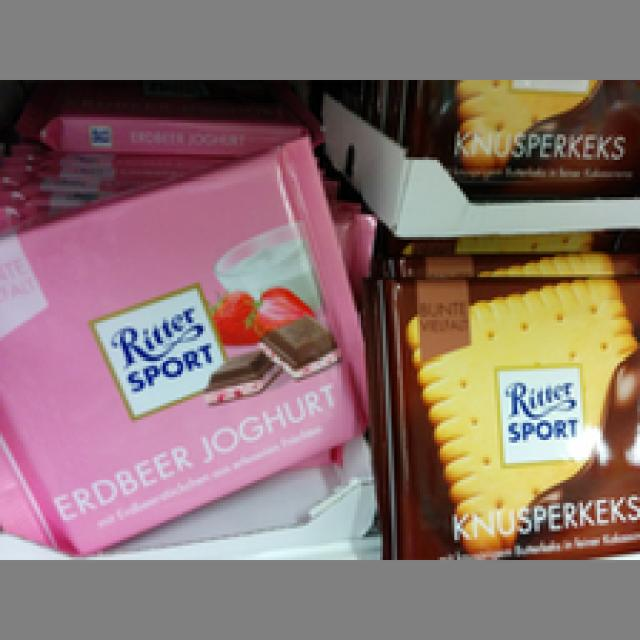groceries: (0, 145, 354, 551), (372, 274, 637, 560)
